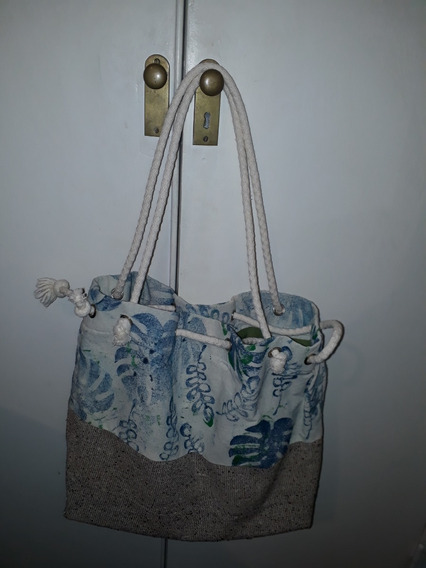cartera: (67, 59, 330, 543)
